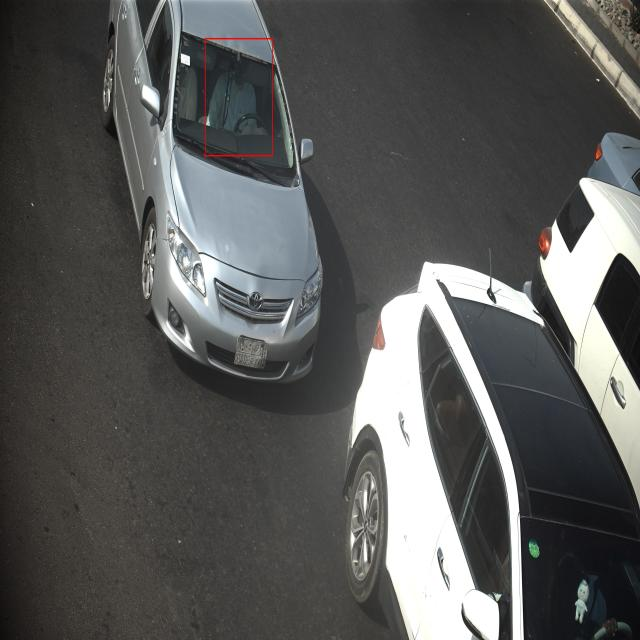windshield: (170, 24, 298, 191)
